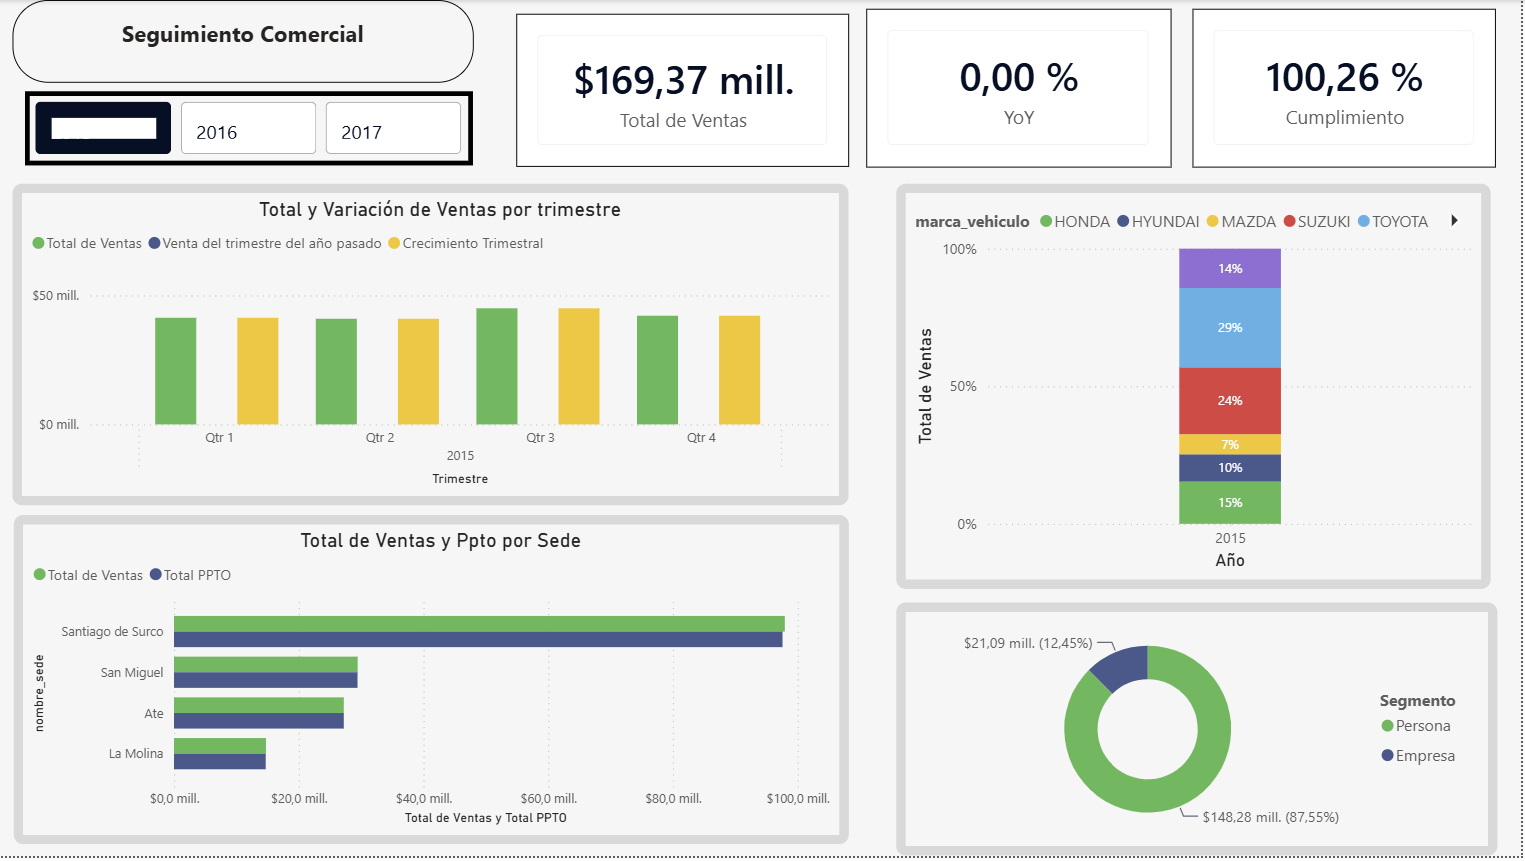

What the dashboard file says about the page in this screenshot:
{"tool":"powerbi","page":{"name":"Sales","canvas":[1280,720],"ordinal":0},"visuals":[{"type":"textbox","box":[10.5,0,388,69.4],"z":0},{"type":"advancedSlicerVisual","fields":{"Values":["DimFechas.Año"]},"box":[21.3,77.2,377.1,62.7],"z":1000},{"type":"cardVisual","fields":{"Data":["Tabla_Medidas.Total de Ventas"]},"box":[433.7,11.6,280.2,129.1],"z":2000},{"type":"cardVisual","fields":{"Data":["Tabla_Medidas.YoY"]},"box":[728.6,7.4,256.5,133.5],"z":3000},{"type":"cardVisual","fields":{"Data":["Tabla_Medidas.Cumplimiento"]},"box":[1003,7.4,255.5,133.5],"z":4000},{"type":"clusteredColumnChart","title":"Total y Variación de Ventas por trimestre","fields":{"Y":["Tabla_Medidas.Total de Ventas","Tabla_Medidas.Venta del trimestre del año pasado","Tabla_Medidas.Crecimiento Trimestral"],"Category":["DimFechas.Date.Variación.Jerarquía de fechas.Año","DimFechas.Date.Variación.Jerarquía de fechas.Trimestre"]},"box":[10.5,154.6,703.4,270.2],"z":5000},{"type":"donutChart","fields":{"Y":["Tabla_Medidas.Total de Ventas"],"Category":["Fact_Ventas.Segmento"]},"box":[752.8,154.6,499.4,270.2],"z":6000},{"type":"clusteredBarChart","title":"Total de Ventas y Ppto por Sede","fields":{"Y":["Tabla_Medidas.Total de Ventas","fact_Presupuestos.Total PPTO"],"Category":["dim_sede.nombre_sede"]},"box":[11.6,433.2,702.3,276.5],"z":7000},{"type":"hundredPercentStackedColumnChart","title":"Total de Ventas por Marca","fields":{"Category":["DimFechas.Date.Variación.Jerarquía de fechas.Año","DimFechas.Date.Variación.Jerarquía de fechas.Trimestre"],"Y":["Tabla_Medidas.Total de Ventas"],"Series":["dim_vehiculo.marca_vehiculo"]},"box":[753,433,499,277],"z":8000}]}

Visuals, with their boxes in screenshot pixels (x1, y1, x2, y2), scaled from the page's 1280x720 canvas onto the 1525x861 screenshot:
textbox: l=13, t=0, r=475, b=83
advancedSlicerVisual - DimFechas.Año: l=25, t=92, r=475, b=167
cardVisual - Tabla_Medidas.Total de Ventas: l=517, t=14, r=851, b=168
cardVisual - Tabla_Medidas.YoY: l=868, t=9, r=1174, b=168
cardVisual - Tabla_Medidas.Cumplimiento: l=1195, t=9, r=1499, b=168
"Total y Variación de Ventas por trimestre" clusteredColumnChart: l=13, t=185, r=851, b=508
donutChart - Tabla_Medidas.Total de Ventas x Fact_Ventas.Segmento: l=897, t=185, r=1492, b=508
"Total de Ventas y Ppto por Sede" clusteredBarChart: l=14, t=518, r=851, b=849
"Total de Ventas por Marca" hundredPercentStackedColumnChart: l=897, t=518, r=1492, b=849
